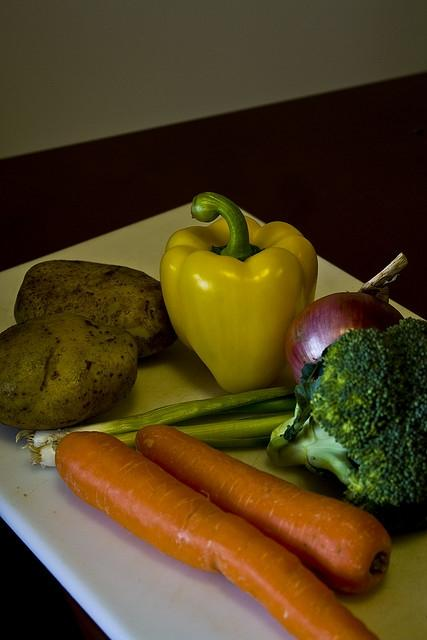bell pepper: (160, 192, 318, 394)
broccoli: (266, 318, 426, 504)
carrot: (55, 431, 378, 640), (136, 424, 392, 594)
green onion: (22, 384, 298, 450), (284, 252, 410, 385), (166, 398, 296, 427)
onion: (285, 252, 408, 386)
potato: (0, 312, 139, 431), (14, 260, 178, 358)
